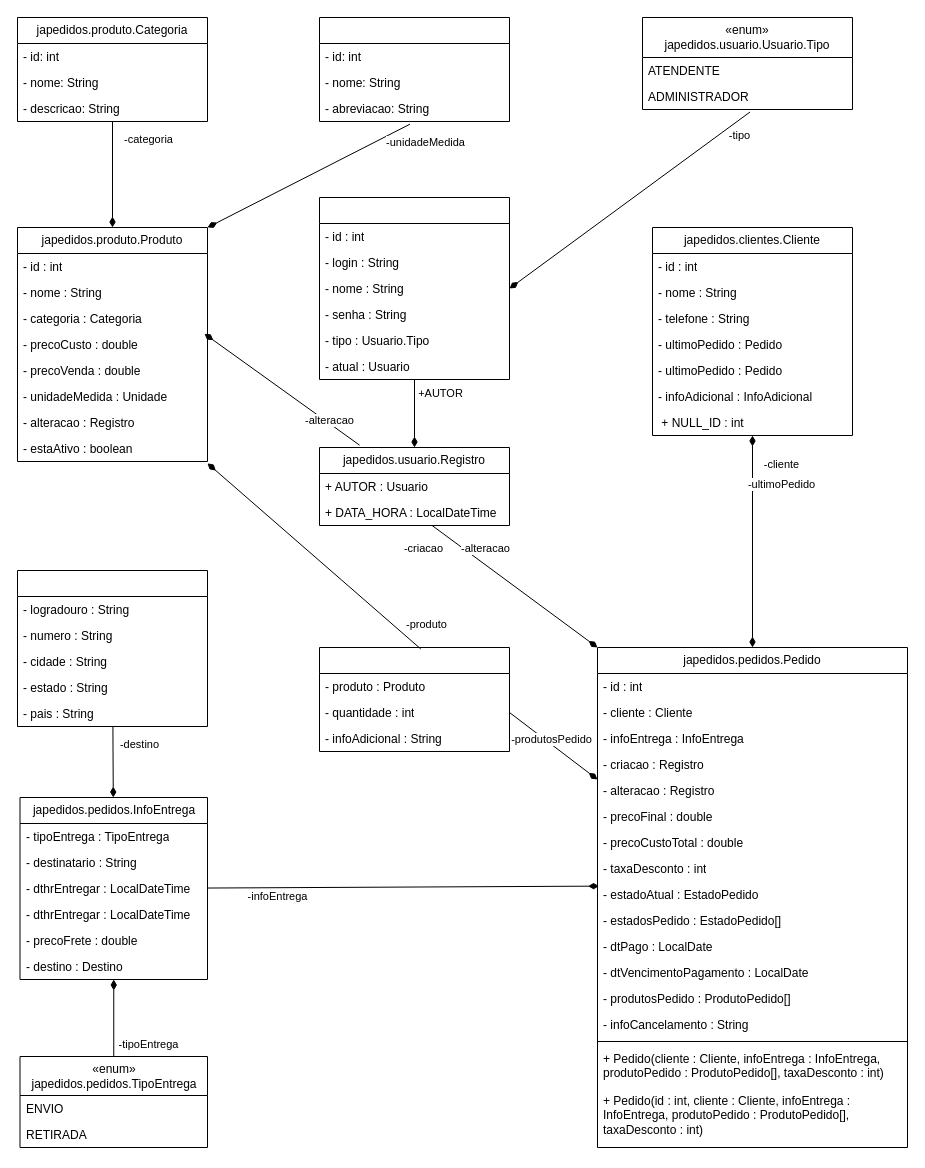
The diagram is 925 pixels wide and 1168 high, and some of its shapes have lost their labels. Here are the shapes that lost their labels. From the top down, the box of each, then its label:
(318, 16, 510, 122): japedidos.produto.Unidade
(318, 196, 510, 380): japedidos.usuario.Usuario
(16, 570, 208, 726): japedidos.pedidos.Destino
(318, 646, 510, 752): japedidos.produto.ProdutoPedido
